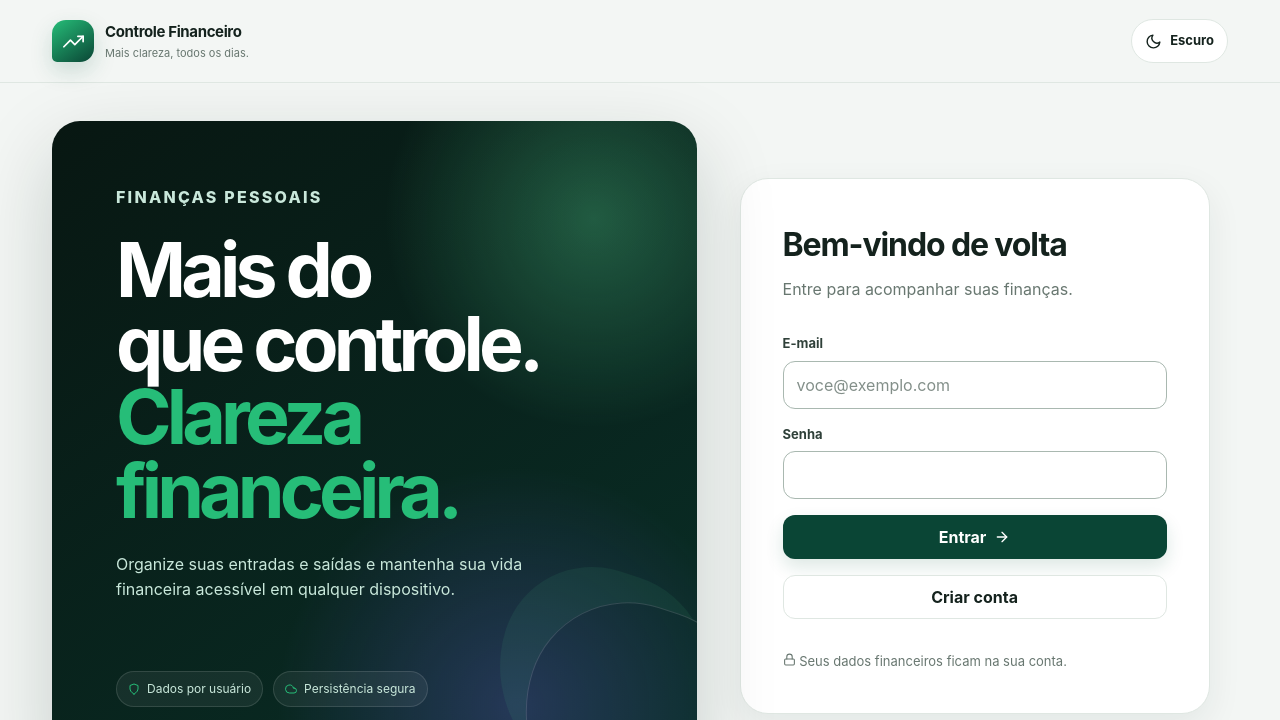
cadastra, faz login e recupera os dados da conta
Click the button "Criar conta": [974, 597] box [782,575,1166,619]
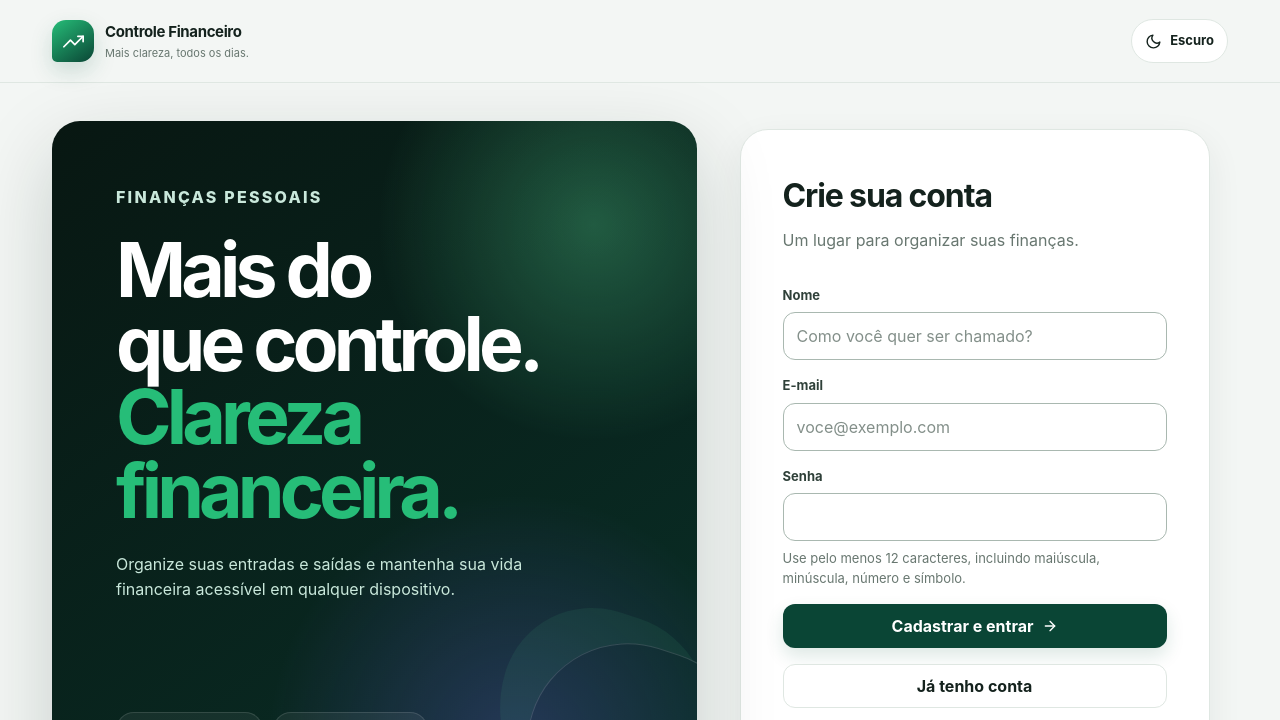
In the field labelled "Nome": [974, 336] box [782,312,1166,360], type "Conta A"
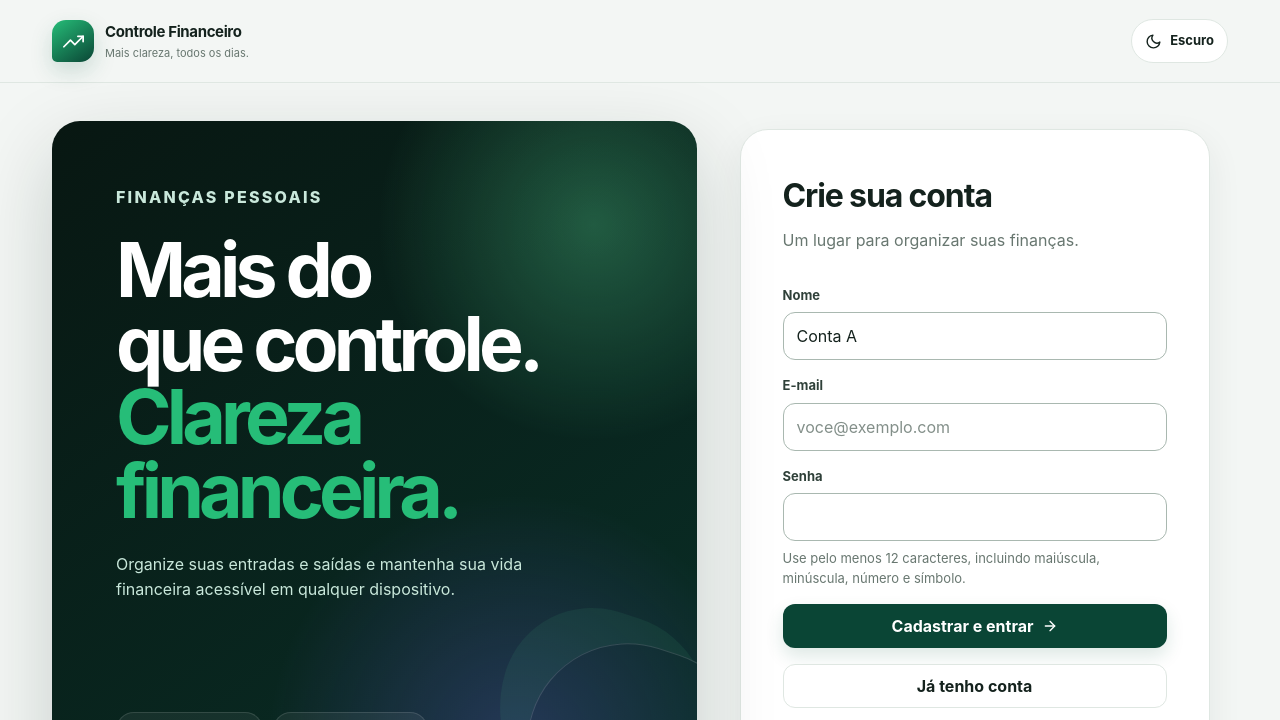
In the field labelled "E-mail": [974, 427] box [782,403,1166,451], type "a@example.test"
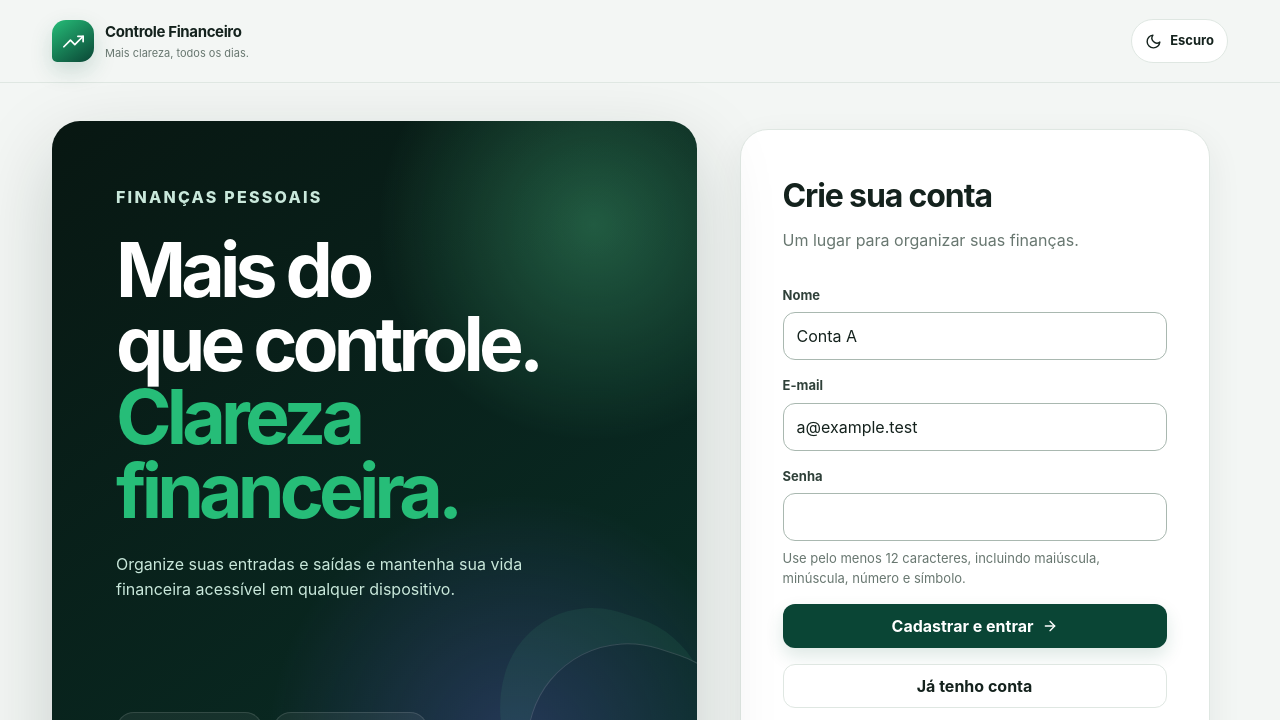
In the password field labelled "Senha": [974, 517] box [782,493,1166,541], type "Senha!Segura123"
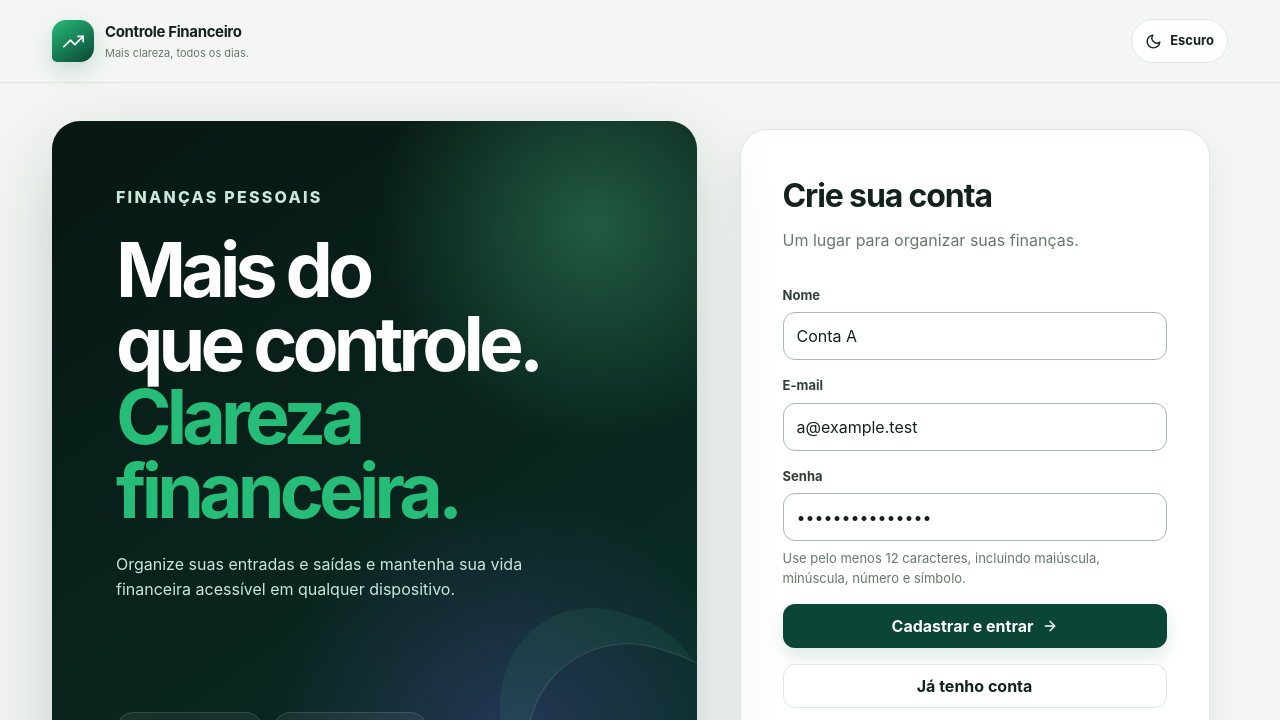
Click the button "Cadastrar e entrar": [974, 626] box [782,604,1166,648]
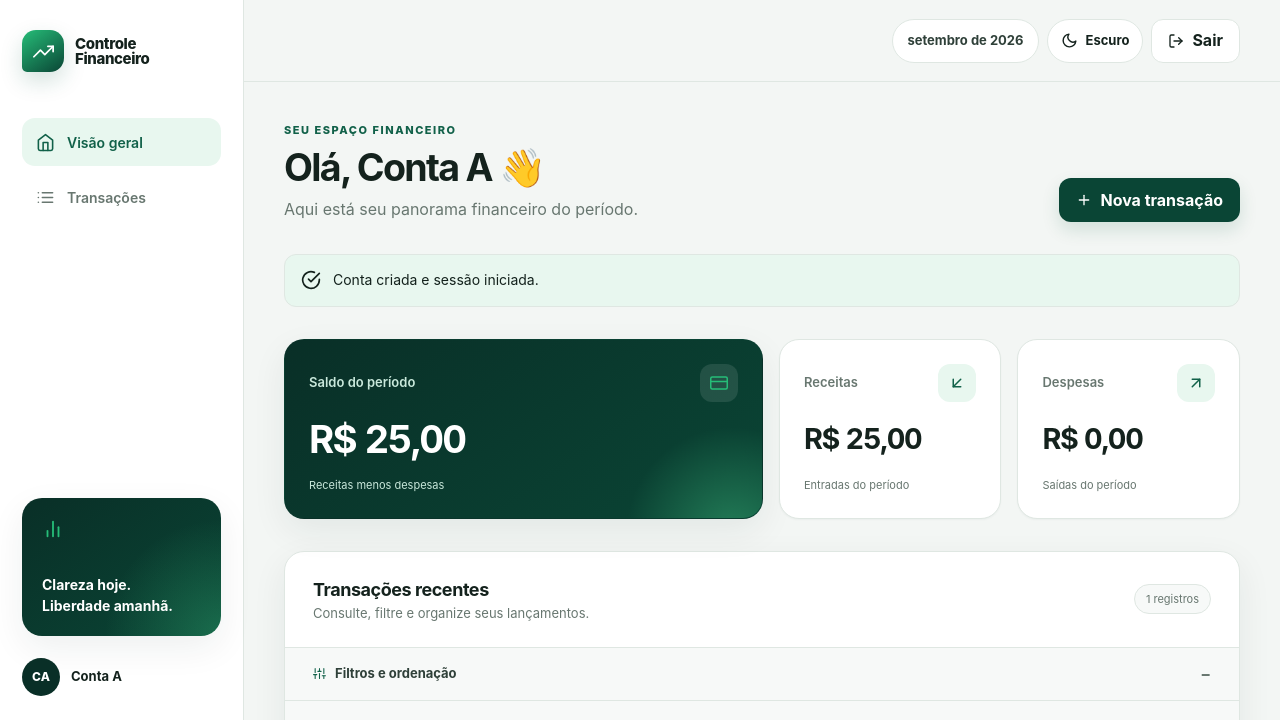
expect the message shows "Conta criada": met, box [333,271,539,288]
